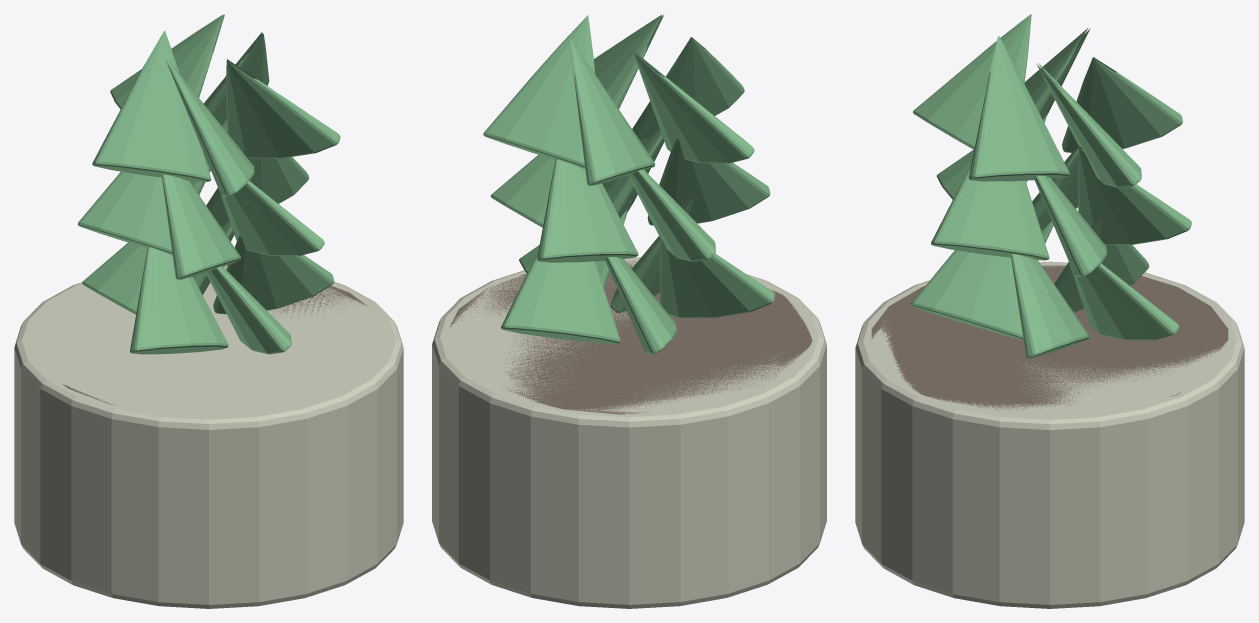
Rendered from modern_office_asset_library_board_29_iter_1.glb.
The picture shows the model from 3 angles, left to right: view 1: azimuth 30°, elevation 25°; view 2: azimuth 150°, elevation 25°; view 3: azimuth 270°, elevation 25°; orthographic projection.
Parts seen in each view (by area): view 1: Cylinder; view 2: Cylinder; view 3: Cylinder.
Part boxes in pixels (x1,y1,x2,y2): Cylinder: (14,14,403,608); Cylinder: (432,14,826,608); Cylinder: (855,14,1244,608).
Size of the model in its own units: 0.7098 by 0.9875 by 0.7098.
